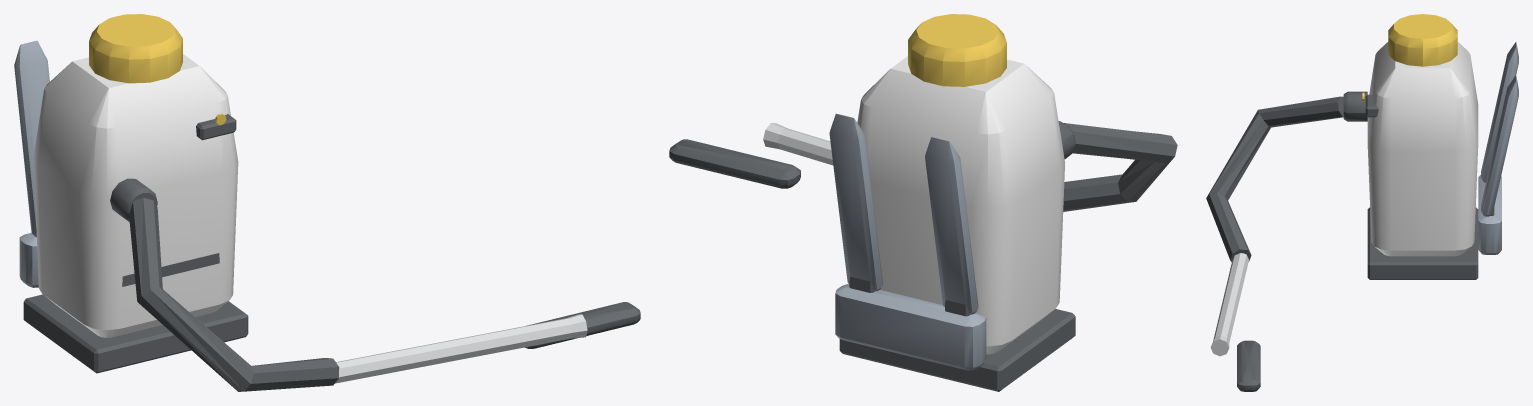
File: laundrette-and-cleaning-vacuum-backpack-commercial-c5d0ff0b__25580.glb
3 renders of one model, left to right at view 1: azimuth 30°, elevation 25°; view 2: azimuth 150°, elevation 25°; view 3: azimuth 270°, elevation 25°, orthographic. The views are drawn at different scales.
Parts seen in each view (by area): view 1: vacuum-backpack-commercial; view 2: vacuum-backpack-commercial; view 3: vacuum-backpack-commercial.
Boxes of the visible parts, x1,y1,x2,y2 form: vacuum-backpack-commercial: [14, 14, 640, 391]; vacuum-backpack-commercial: [669, 14, 1177, 391]; vacuum-backpack-commercial: [1206, 14, 1518, 391].
Bounding box in the file's own units: 1.08 × 0.63 × 0.79.
